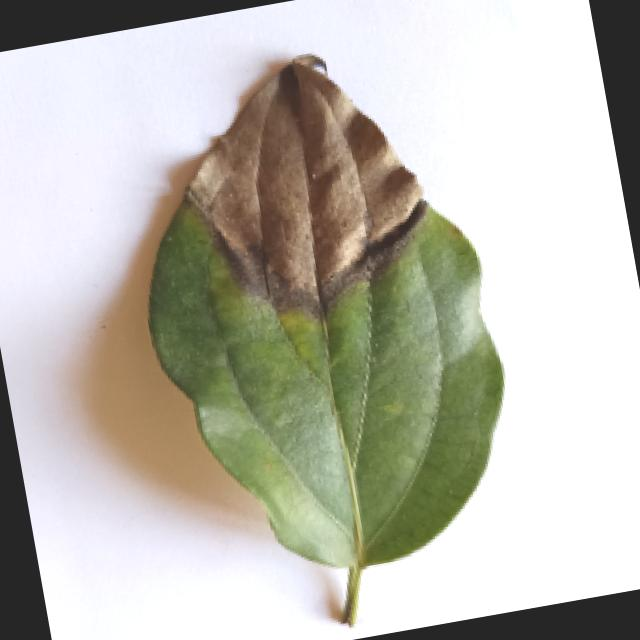footrot: (92, 30, 546, 640)
